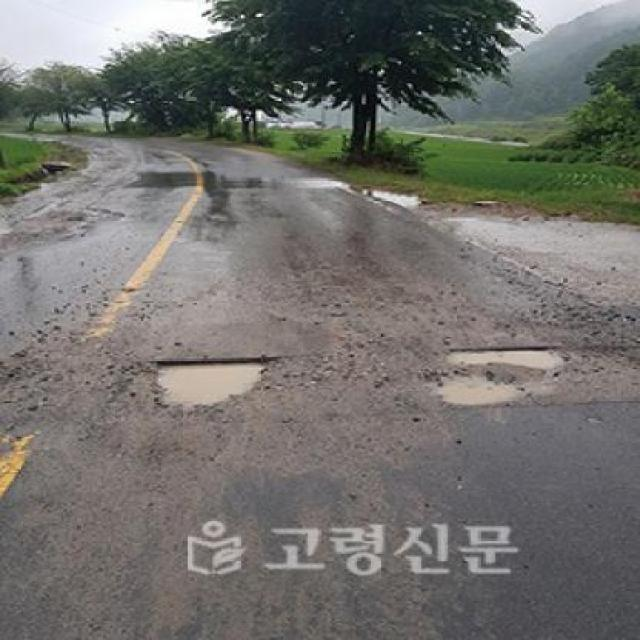Buraco: (418, 344, 572, 409), (148, 355, 283, 415)
